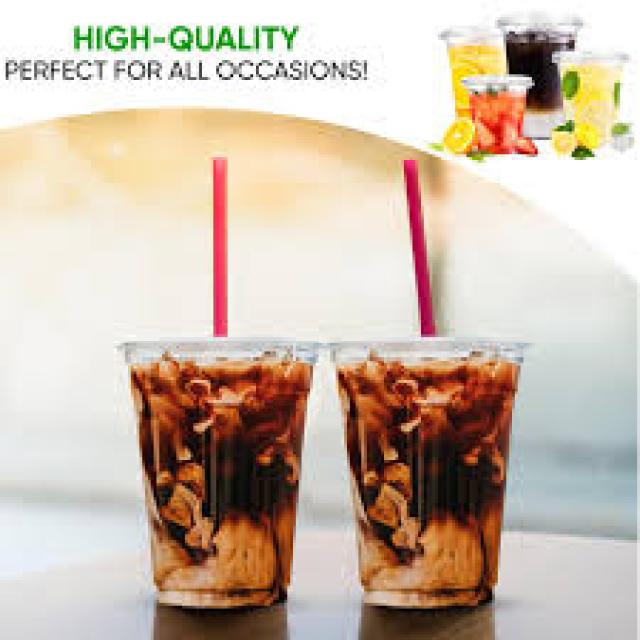bottle: (305, 338, 522, 608), (126, 343, 329, 607)
